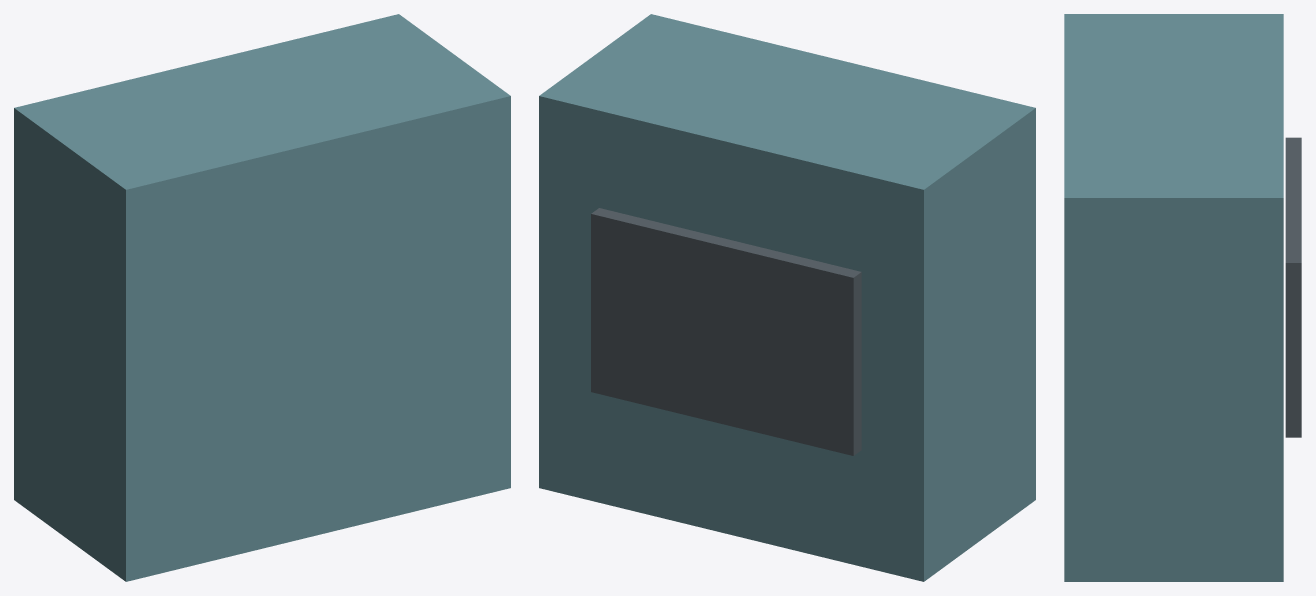
Rendered from iz2_school_blackboard.glb.
The picture shows the model from 3 angles, left to right: view 1: azimuth 30°, elevation 25°; view 2: azimuth 150°, elevation 25°; view 3: azimuth 270°, elevation 25°; orthographic projection. The views are drawn at different scales.
Visible parts, largest first — view 1: body; view 2: body; view 3: body.
Boxes of the visible parts, x1,y1,x2,y2 form: body: [14, 14, 510, 581]; body: [539, 14, 1035, 581]; body: [1064, 14, 1301, 581].
Bounding box in the file's own units: 1.11 × 1.08 × 0.6039.
